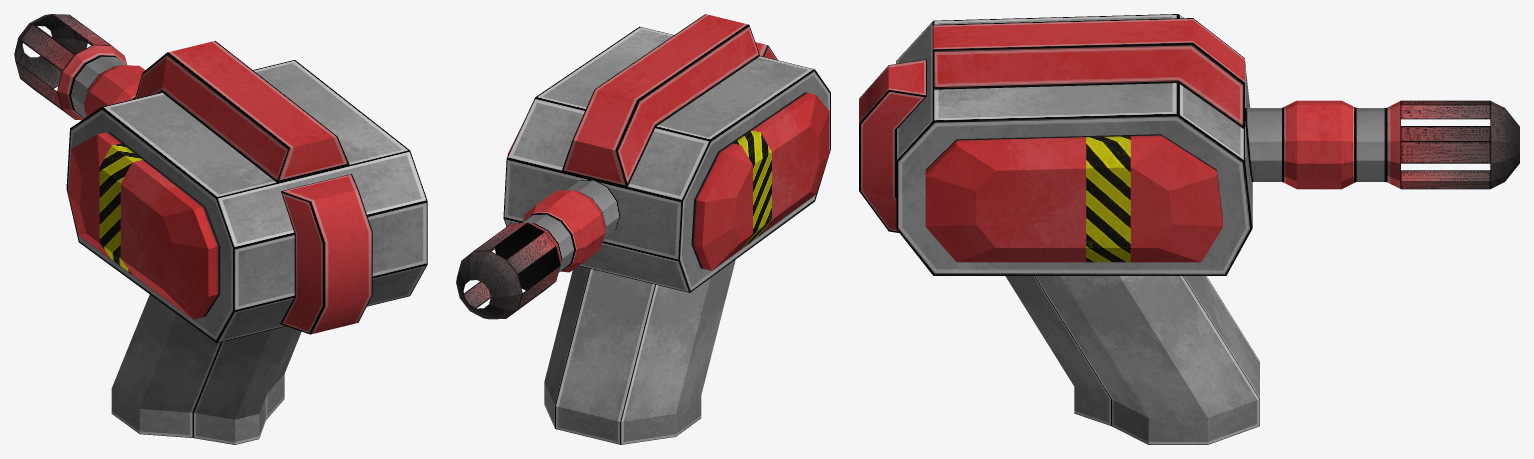
File: Flamethrower Turret_Weapon.fbx
3 renders of one model, left to right at view 1: azimuth 30°, elevation 25°; view 2: azimuth 150°, elevation 25°; view 3: azimuth 270°, elevation 25°, orthographic. The views are drawn at different scales.
Parts seen in each view (by area): view 1: polySurface98; view 2: polySurface98; view 3: polySurface98.
Boxes of the visible parts, bbox=[...] form: polySurface98: bbox=[14, 14, 427, 444]; polySurface98: bbox=[456, 14, 830, 444]; polySurface98: bbox=[859, 14, 1519, 444].
Bounding box in the file's own units: 48 × 67.2 × 107.
1 material, 1 textured.
